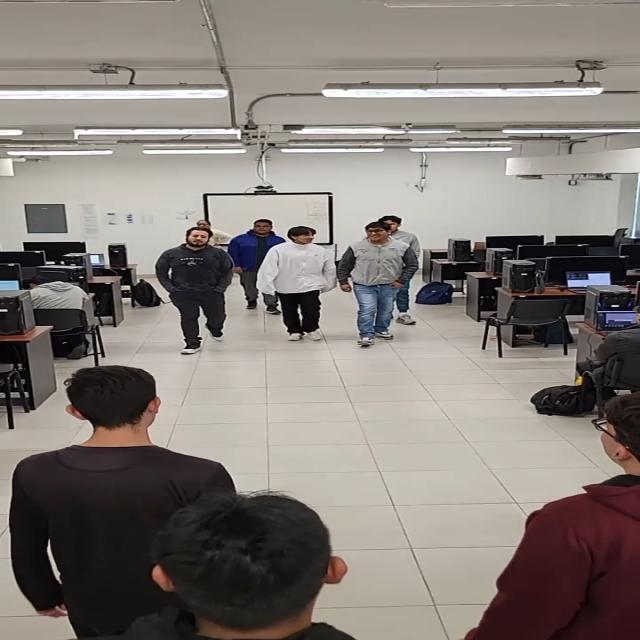Persona: (39, 366, 203, 626), (130, 494, 354, 636), (160, 224, 233, 346), (264, 225, 340, 340), (350, 222, 416, 347), (237, 218, 273, 291)
